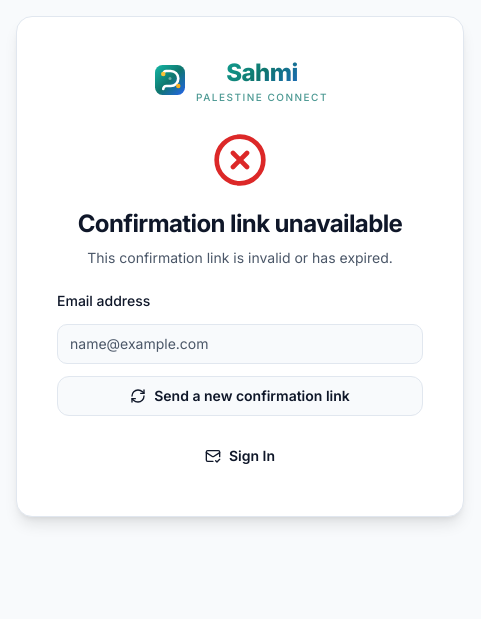
Test case: allows a user to request another confirmation link
Expected: the heading "Confirmation link unavailable" is shown, [57, 208, 423, 240]
Type "person@example.com" into the field labelled "Email address" at (240, 344), box [57, 324, 423, 364]
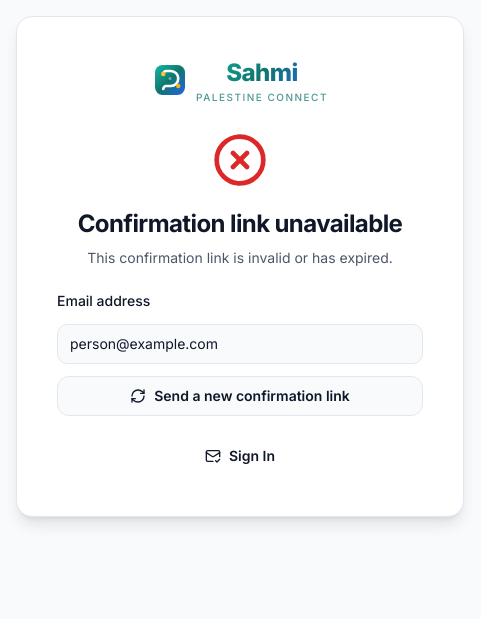
Click the button "Send a new confirmation link" at (240, 396), box [57, 376, 423, 416]
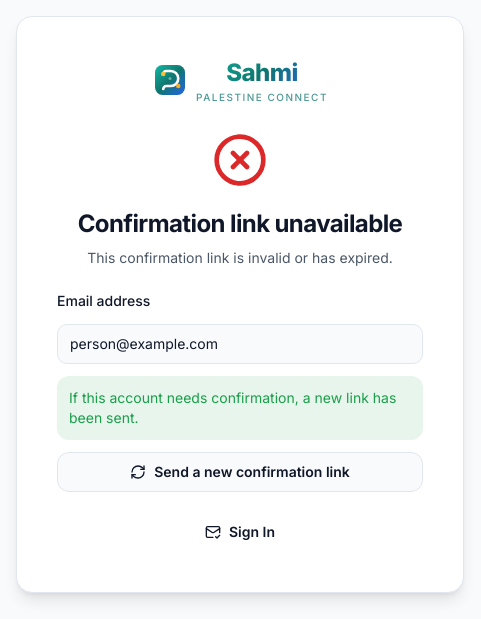
Expected: the text "If this account needs confirmation, a new link has been sent." is shown, [57, 376, 423, 440]
